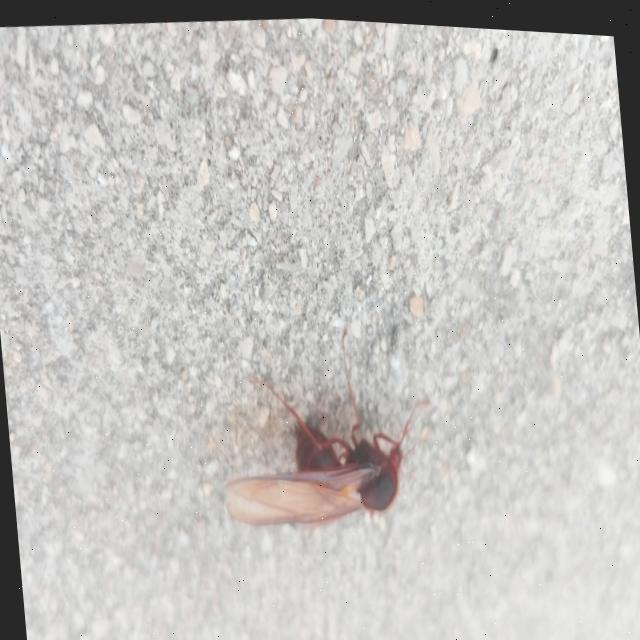Alive-Male-Alate: (210, 312, 440, 536)
